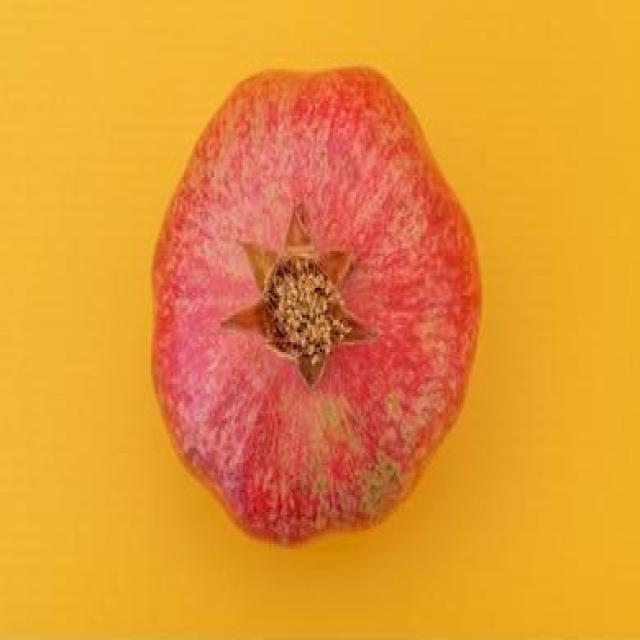Pomegranate: (148, 65, 484, 549)
